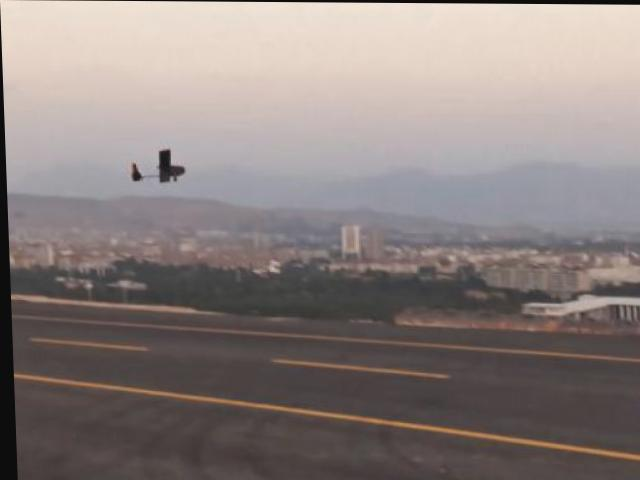uav: (120, 142, 197, 194)
